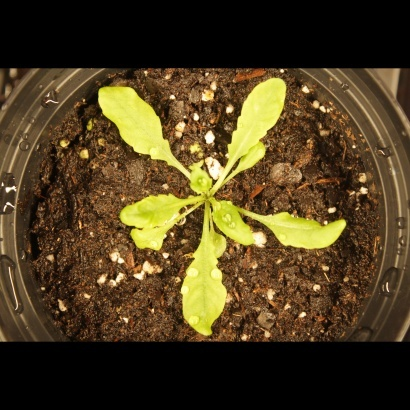leaf: (91, 83, 180, 170), (179, 215, 226, 340), (231, 69, 287, 164), (263, 204, 352, 256), (115, 192, 191, 229), (213, 201, 256, 248), (129, 223, 178, 258), (231, 138, 268, 180), (189, 161, 213, 194), (204, 231, 230, 258)
